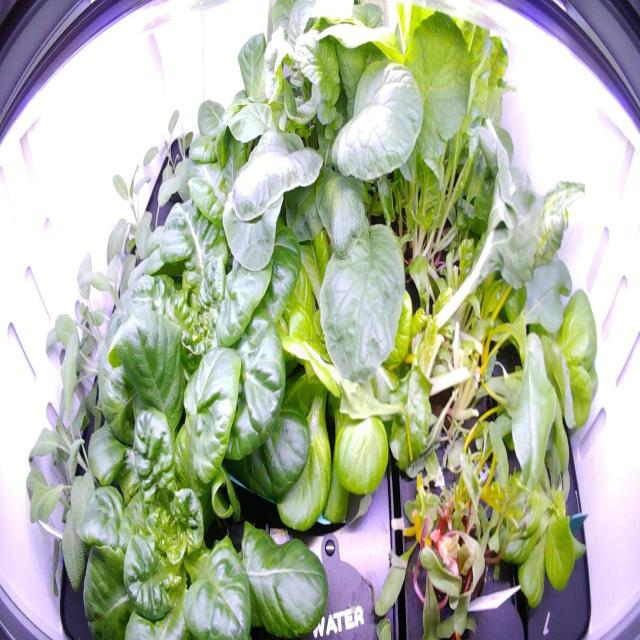Ready: (59, 293, 342, 639), (97, 163, 328, 510)
